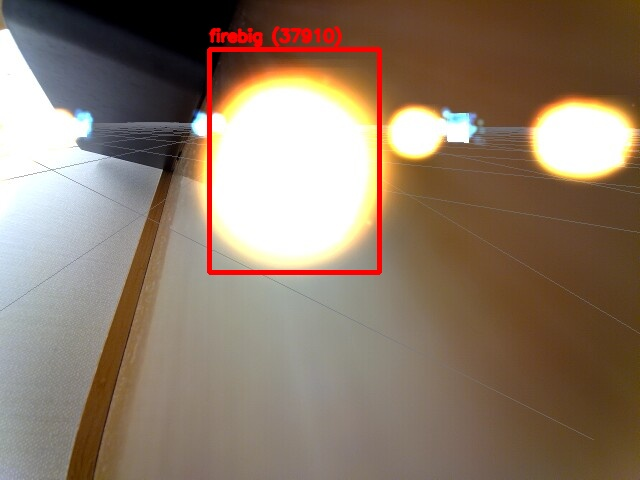firebig: (209, 49, 379, 272)
